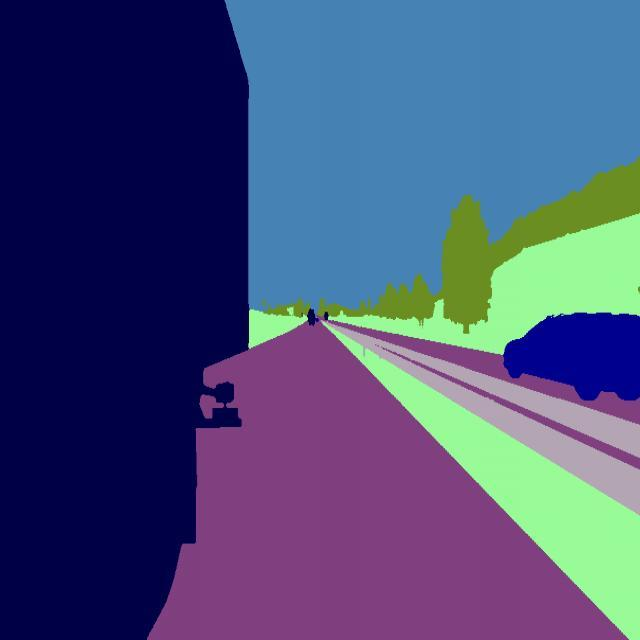safe: (498, 310, 640, 409)
unsafe: (0, 0, 254, 640)
